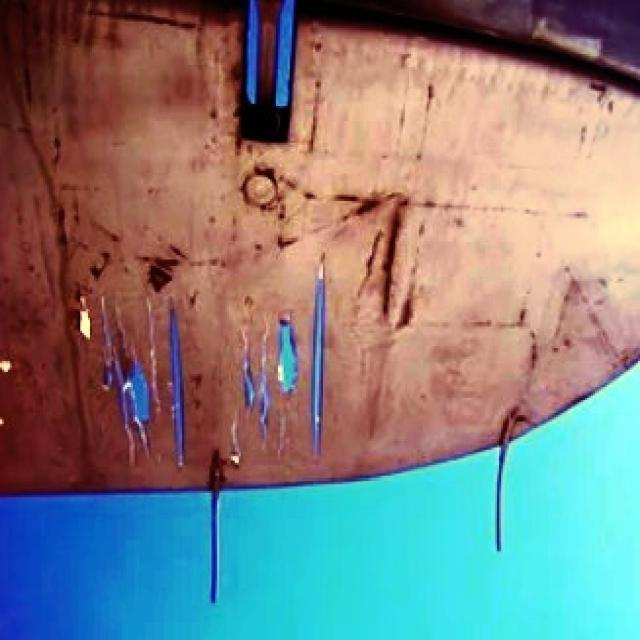crack: (94, 247, 335, 472)
